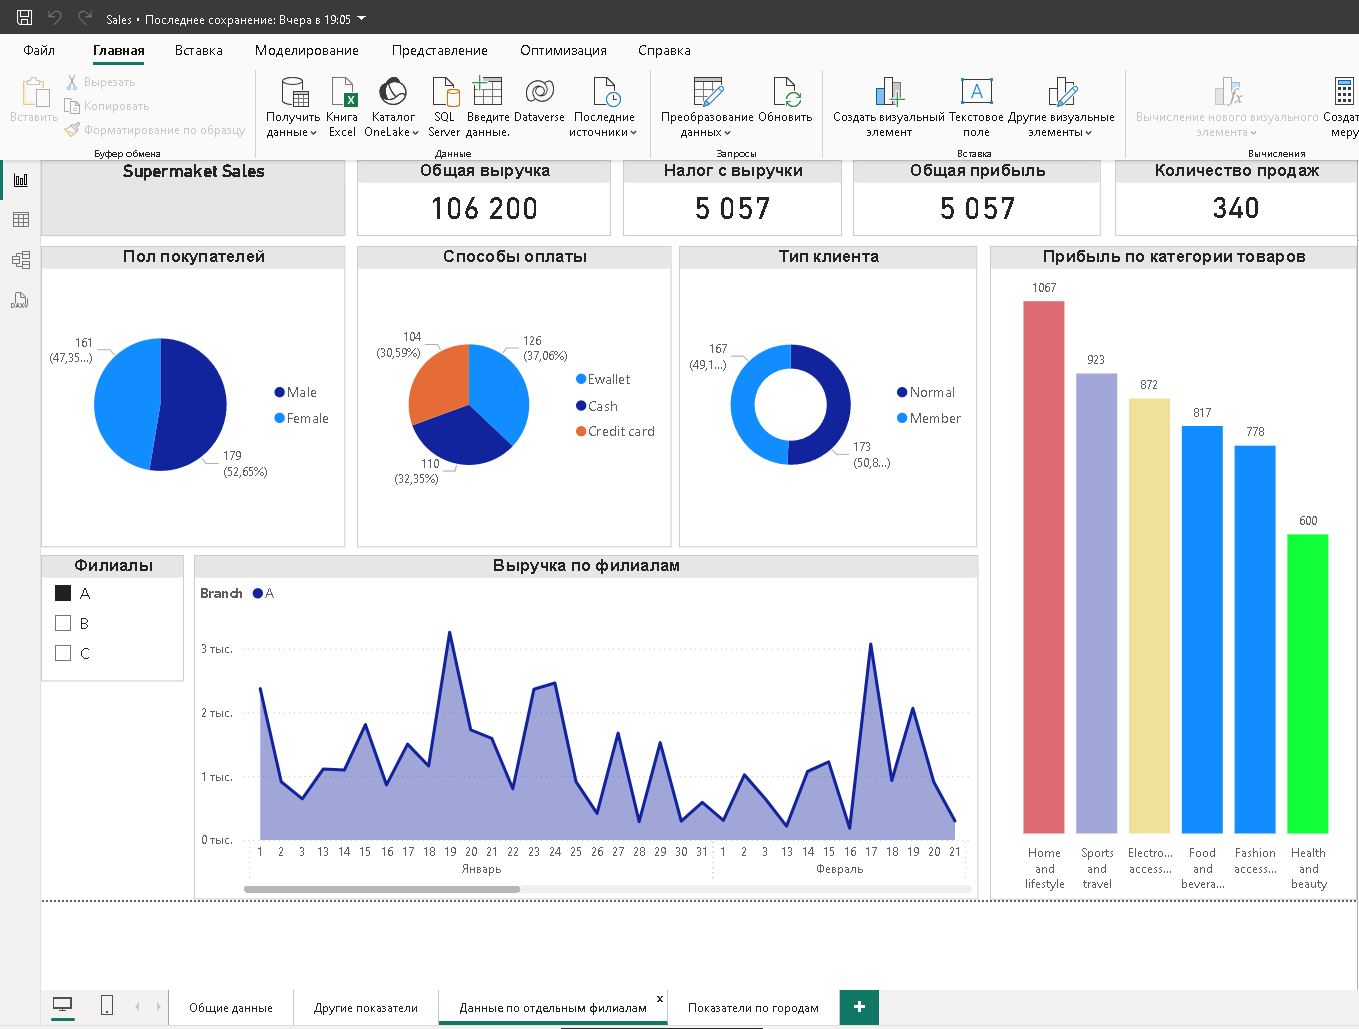

Layout of this report page (visuals, bound fields, positions):
{"tool":"powerbi","page":{"name":"Данные по отдельным филиалам","canvas":[1280,720],"ordinal":2},"visuals":[{"type":"textbox","title":"Supermaket Sales","box":[0,0,296.2,73.8],"z":0},{"type":"card","title":"Общая выручка","fields":{"Values":["Sum(Sheet1.Total)"]},"box":[306.9,0,247.4,73.8],"z":1},{"type":"pieChart","title":"Пол покупателей","fields":{"Category":["Sheet1.Gender"],"Y":["CountNonNull(Sheet1.Gender)"]},"box":[0,83.3,296.2,292.6],"z":2},{"type":"card","title":"Налог с выручки","fields":{"Values":["Sum(Sheet1.Tax 5%)"]},"box":[566.2,0,212.9,73.8],"z":3},{"type":"card","title":"Общая прибыль","fields":{"Values":["Sum(Sheet1.gross income)"]},"box":[789.9,0,241.5,73.8],"z":4},{"type":"card","title":"Количество продаж","fields":{"Values":["CountNonNull(Sheet1.Quantity)"]},"box":[1044.5,0,235.5,73.8],"z":5},{"type":"slicer","title":"Филиалы","fields":{"Values":["Sheet1.Branch"]},"box":[0,384.2,139.2,122.5],"z":6},{"type":"pieChart","title":"Способы оплаты","fields":{"Category":["Sheet1.Payment"],"Y":["CountNonNull(Sheet1.Payment)"]},"box":[306.9,83.3,305.7,292.6],"z":7},{"type":"donutChart","title":"Тип клиента","fields":{"Category":["Sheet1.Customer type"],"Y":["CountNonNull(Sheet1.Customer type)"]},"box":[621,83.3,290.3,292.6],"z":8},{"type":"clusteredColumnChart","title":"Прибыль по категории товаров","fields":{"Category":["Sheet1.Product line"],"Y":["Sum(Sheet1.gross income)"]},"box":[923.1,83.3,356.9,636.4],"z":9},{"type":"stackedAreaChart","title":"Выручка по филиалам","fields":{"Y":["Sum(Sheet1.Total)"],"Series":["Sheet1.Branch"],"Category":["Sheet1.Date.Изменение.Иерархия дат.Месяц","Sheet1.Date.Изменение.Иерархия дат.День"]},"box":[148.7,384.2,762.5,335.5],"z":10}]}

Visuals, with their boxes on the page's 1280x720 design canvas (x1, y1, x2, y2). These are canvas units, not pixel positions in the 1359x1029 screenshot, which may show the page scaled, cropped or inside an application window:
"Supermaket Sales" textbox: {"x1": 0, "y1": 0, "x2": 296, "y2": 74}
"Общая выручка" card: {"x1": 307, "y1": 0, "x2": 554, "y2": 74}
"Пол покупателей" pieChart: {"x1": 0, "y1": 83, "x2": 296, "y2": 376}
"Налог с выручки" card: {"x1": 566, "y1": 0, "x2": 779, "y2": 74}
"Общая прибыль" card: {"x1": 790, "y1": 0, "x2": 1031, "y2": 74}
"Количество продаж" card: {"x1": 1044, "y1": 0, "x2": 1280, "y2": 74}
"Филиалы" slicer: {"x1": 0, "y1": 384, "x2": 139, "y2": 507}
"Способы оплаты" pieChart: {"x1": 307, "y1": 83, "x2": 613, "y2": 376}
"Тип клиента" donutChart: {"x1": 621, "y1": 83, "x2": 911, "y2": 376}
"Прибыль по категории товаров" clusteredColumnChart: {"x1": 923, "y1": 83, "x2": 1280, "y2": 720}
"Выручка по филиалам" stackedAreaChart: {"x1": 149, "y1": 384, "x2": 911, "y2": 720}
